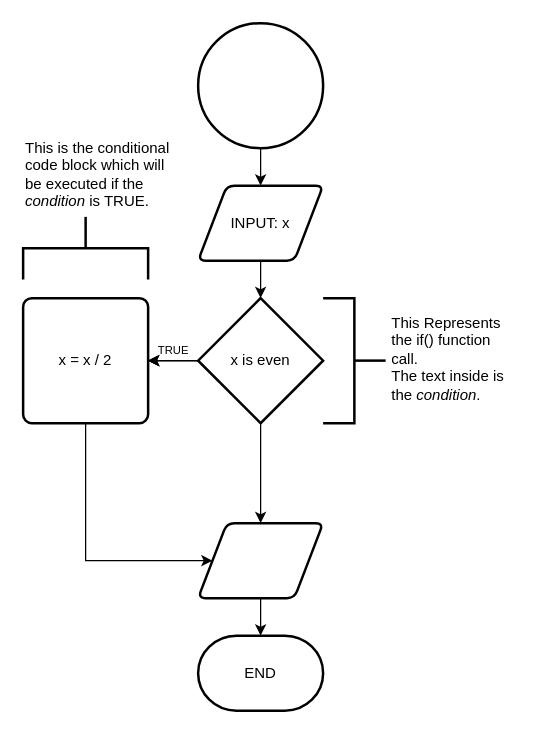
This 548x733 diagram has some shape labels left out. Here are the shapes that lost their labels. From the top down, the centre of each, then its label:
At [260,85]: "START".
At [260,560]: "OUTPUT: x".
